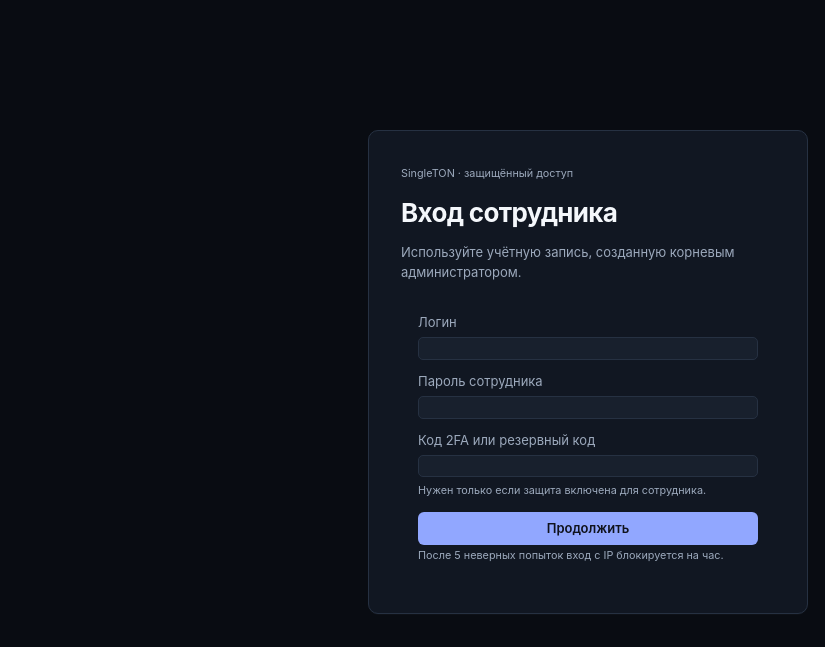
Test: Admin access boundary › keeps private UI closed for a TOTP challenge and accepts a backup code
Type "root" into the field labelled "Логин" at (588, 348), box [418,337,758,360]
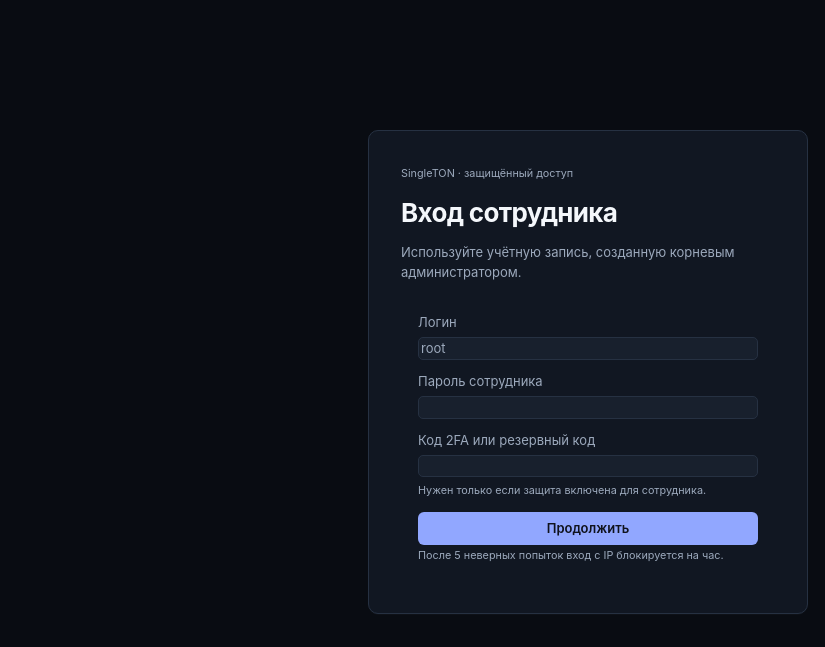
Type "personal-secret" into the password field labelled "Пароль сотрудника" at (588, 407), box [418,396,758,419]
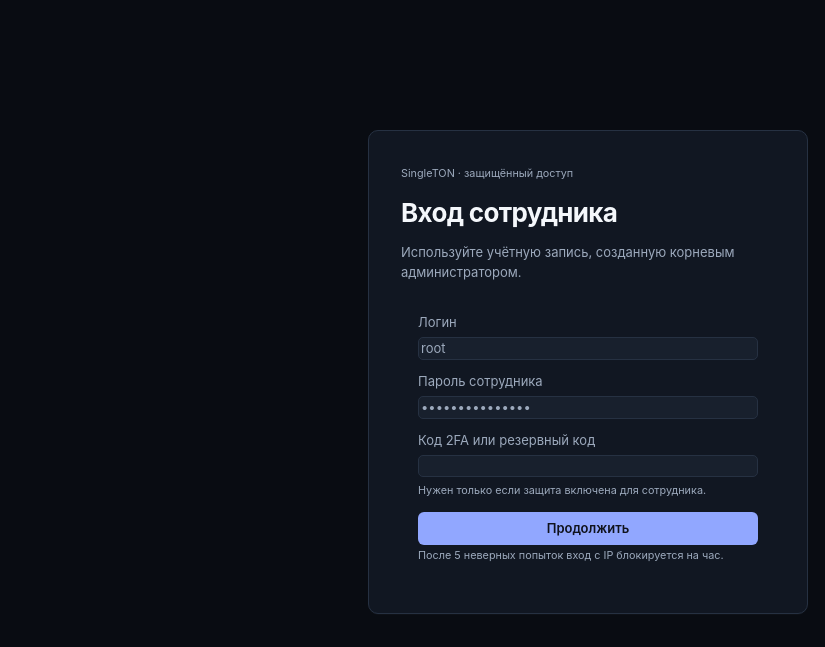
Click the button "Продолжить" at (588, 528), box [418,512,758,544]
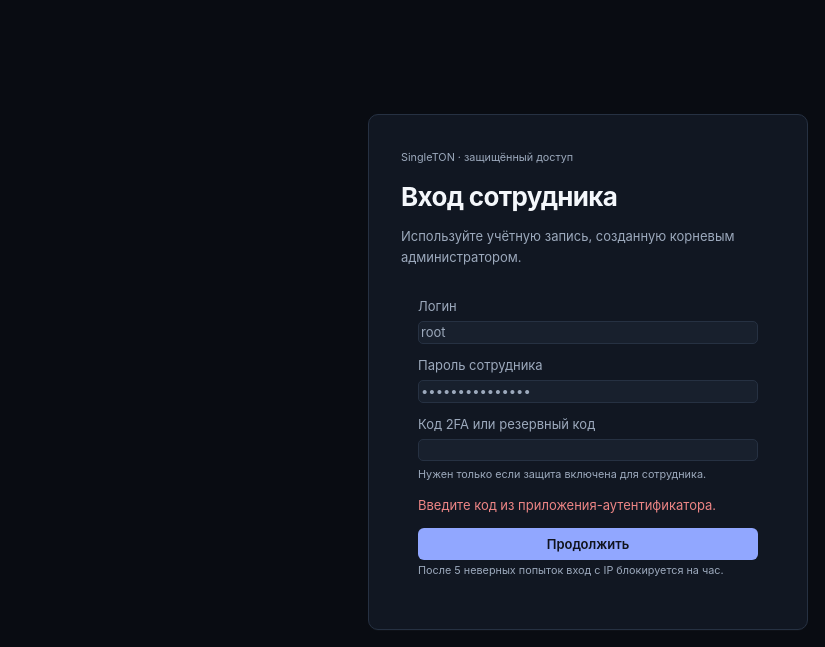
Expected: the text "Приватный контекст" is not shown
Now the text "Введите код из приложения-аутентификатора." is shown, box [418,496,758,514]
Type "aaaaaaaa-bbbbbbbb-cccccccc-dddddddd" into the field labelled "Код 2FA или резервный код" at (588, 450), box [418,439,758,461]
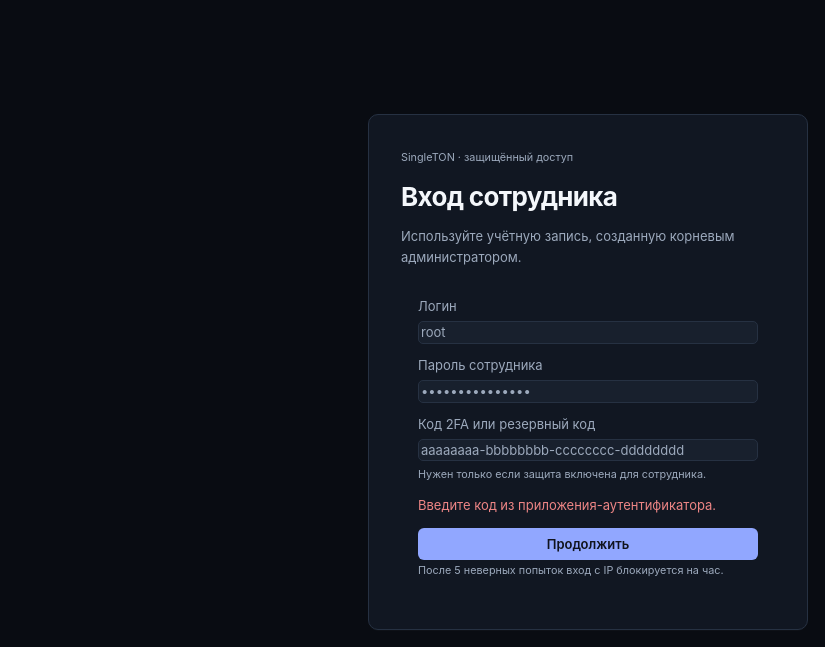
Click the button "Продолжить" at (588, 544), box [418,528,758,560]
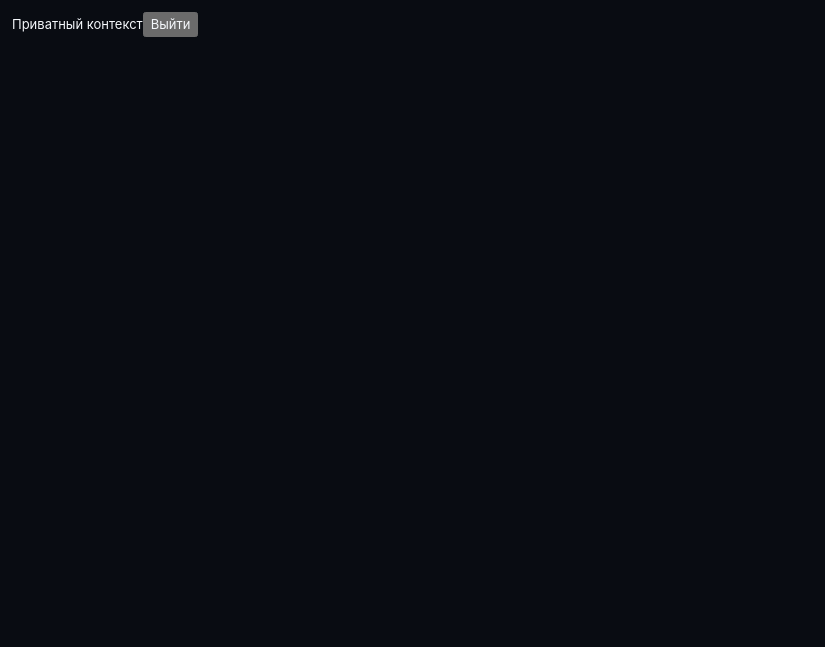
Now the text "Приватный контекст" is shown, box [12,16,143,32]
